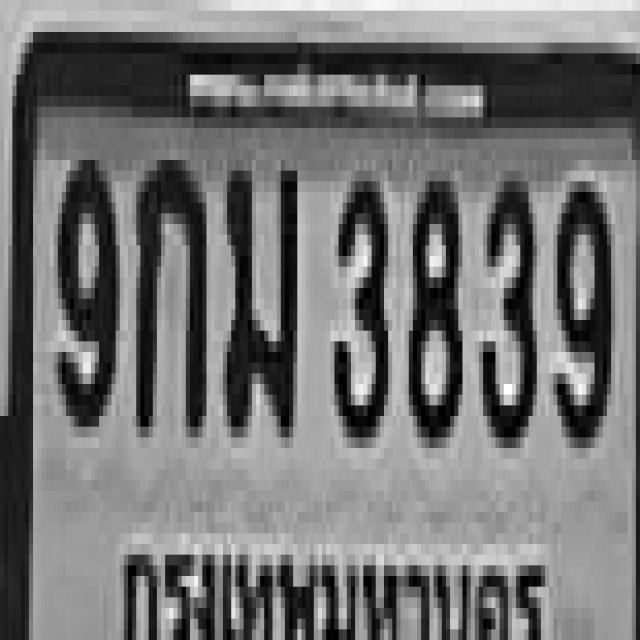10GorGai: (132, 149, 202, 427)
3: (330, 171, 384, 437), (479, 171, 533, 437)
42MorMa: (219, 149, 293, 427)
8: (405, 171, 458, 437)
9: (54, 149, 112, 416), (549, 171, 607, 437)
Bangkok: (113, 525, 555, 640)
